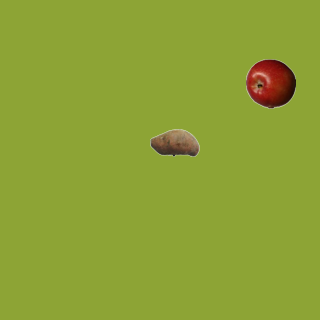Apple Braeburn: (245, 58, 295, 108)
Potato Sweet: (149, 117, 199, 167)
